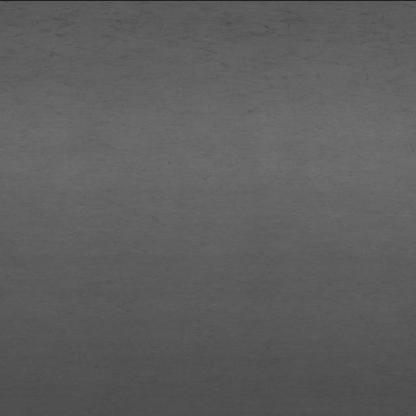silk_spot: (59, 6, 352, 80)
